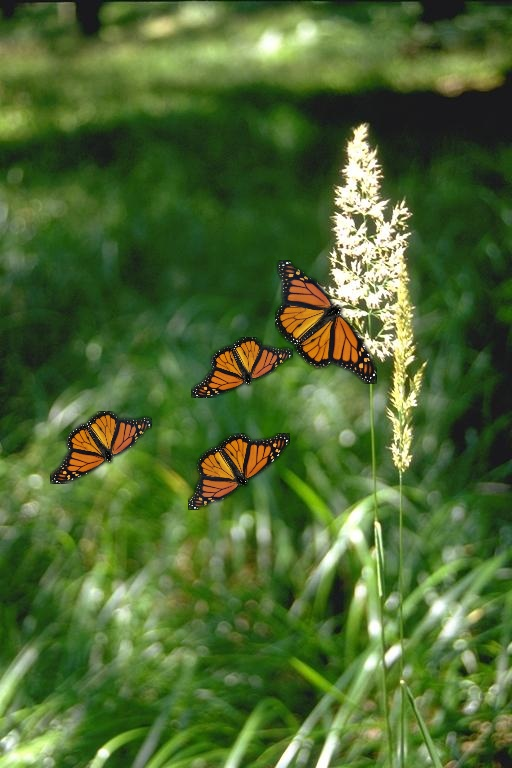danaus_plexippus: (275, 260, 377, 384), (188, 433, 290, 510), (50, 411, 152, 484), (191, 337, 293, 398)
